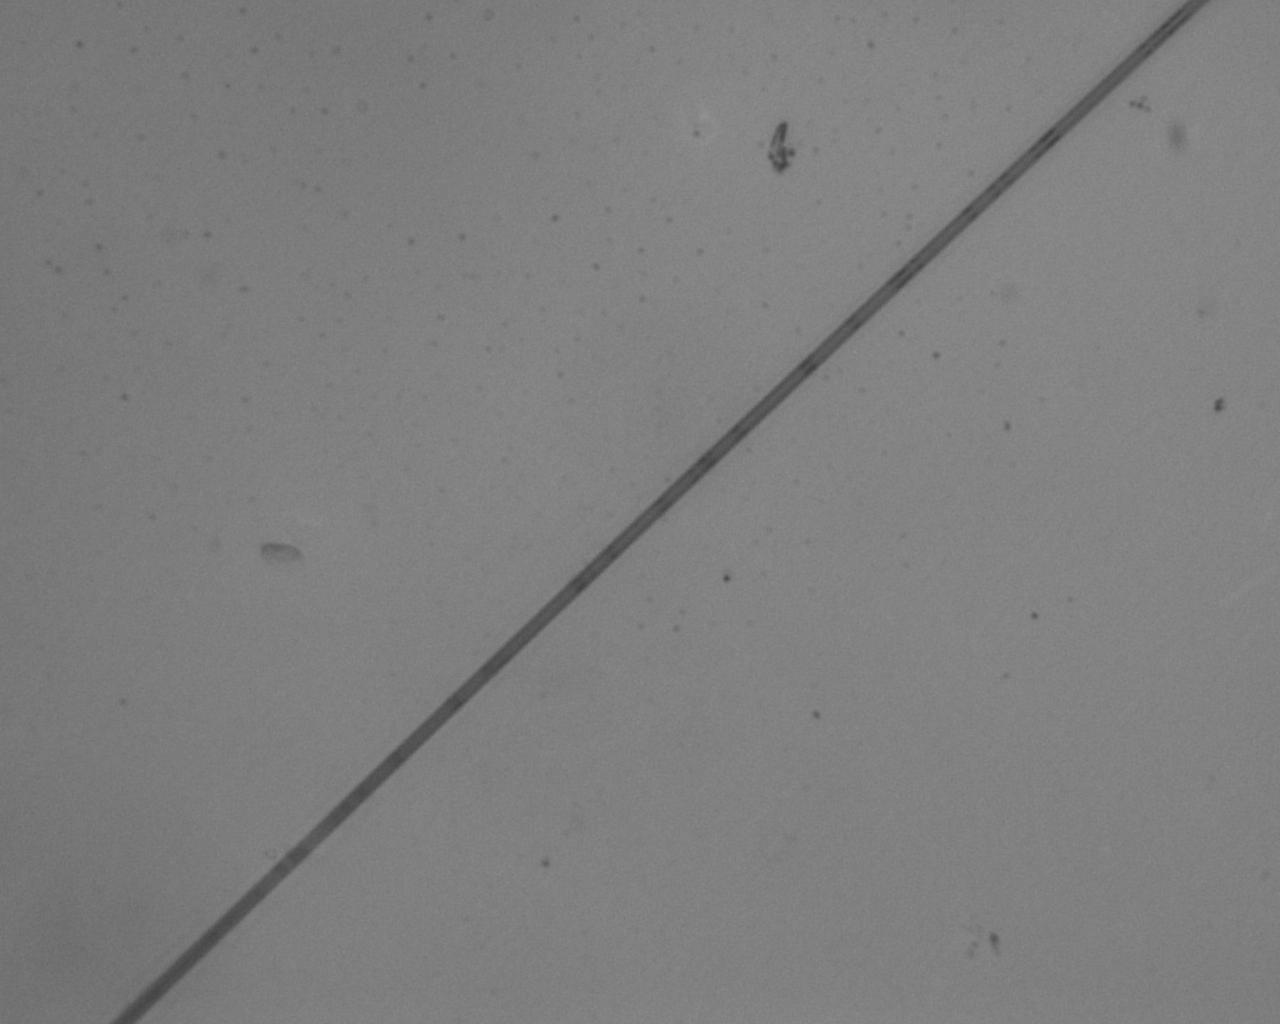fiber: (0, 199, 779, 559), (940, 624, 1280, 1024), (0, 810, 479, 1024), (779, 0, 792, 624)
